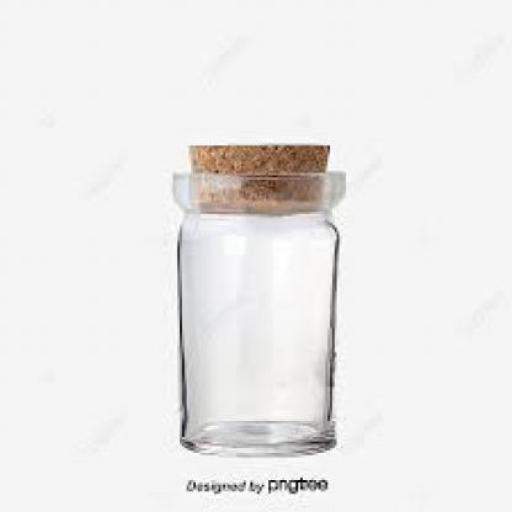glass: (168, 170, 344, 460)
